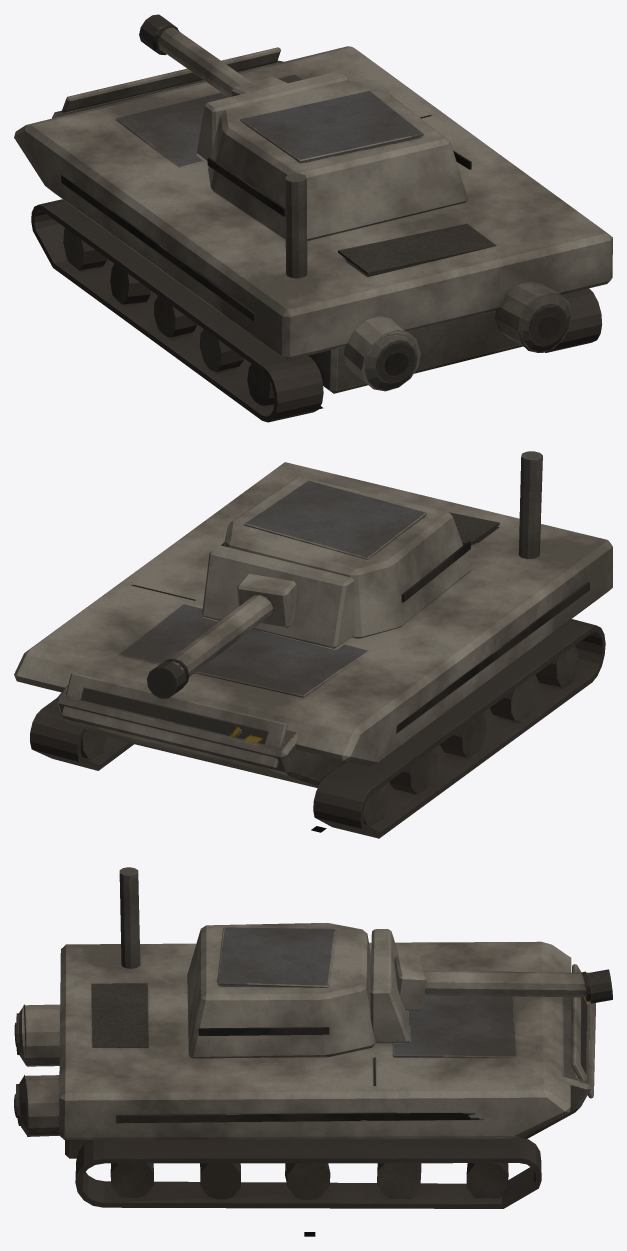
File: ord_tideguard_wreck.fbx
The picture shows the model from 3 angles, top to bottom: view 1: azimuth 30°, elevation 25°; view 2: azimuth 150°, elevation 25°; view 3: azimuth 270°, elevation 25°; orthographic projection. The views are drawn at different scales.
Visible parts, largest first — view 1: base_bar, turret_bar, trackL_bar, trackR_bar; view 2: base_bar, turret_bar, trackL_bar, trackR_bar; view 3: base_bar, turret_bar, trackR_bar.
Boxes of the visible parts, left/top/right/bottom form: base_bar: left=14, top=46, right=612, bottom=393; turret_bar: left=139, top=14, right=471, bottom=240; trackL_bar: left=31, top=199, right=323, bottom=422; trackR_bar: left=544, top=288, right=602, bottom=352; base_bar: left=14, top=451, right=612, bottom=787; turret_bar: left=147, top=476, right=471, bottom=698; trackL_bar: left=313, top=619, right=605, bottom=838; trackR_bar: left=30, top=698, right=133, bottom=770; base_bar: left=14, top=867, right=595, bottom=1158; turret_bar: left=187, top=923, right=612, bottom=1058; trackR_bar: left=75, top=1137, right=541, bottom=1208.
Bounding box in the file's own units: 662 × 616 × 1079.
2 materials, 2 textured.
